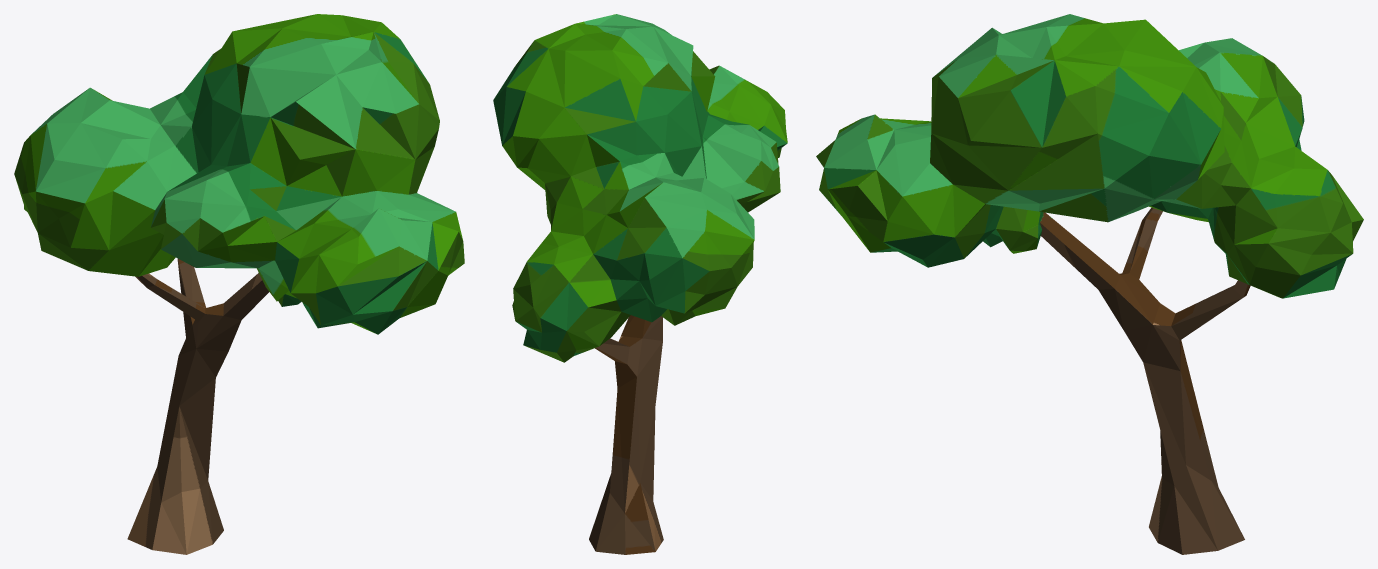
Rendered from tree2.glb.
3 views of the same model, side by side, from view 1: azimuth 30°, elevation 25°; view 2: azimuth 150°, elevation 25°; view 3: azimuth 270°, elevation 25° (orthographic). The views are drawn at different scales.
Visible parts, largest first — view 1: Tree; view 2: Tree; view 3: Tree.
Part boxes in pixels (x1,y1,x2,y2): Tree: [14, 14, 464, 554]; Tree: [493, 14, 787, 554]; Tree: [816, 14, 1363, 554].
Size of the model in its own units: 4.16 by 6.35 by 5.8.
1 material, 1 textured.
